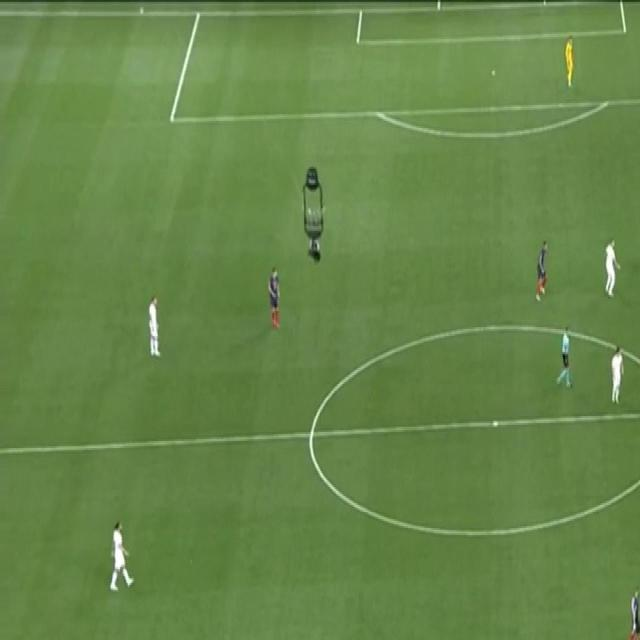player-white: (103, 520, 135, 596), (554, 322, 575, 392), (603, 232, 621, 302), (146, 288, 162, 360), (267, 262, 283, 334), (533, 239, 551, 303), (623, 579, 640, 640), (609, 343, 625, 407), (562, 32, 578, 94)
